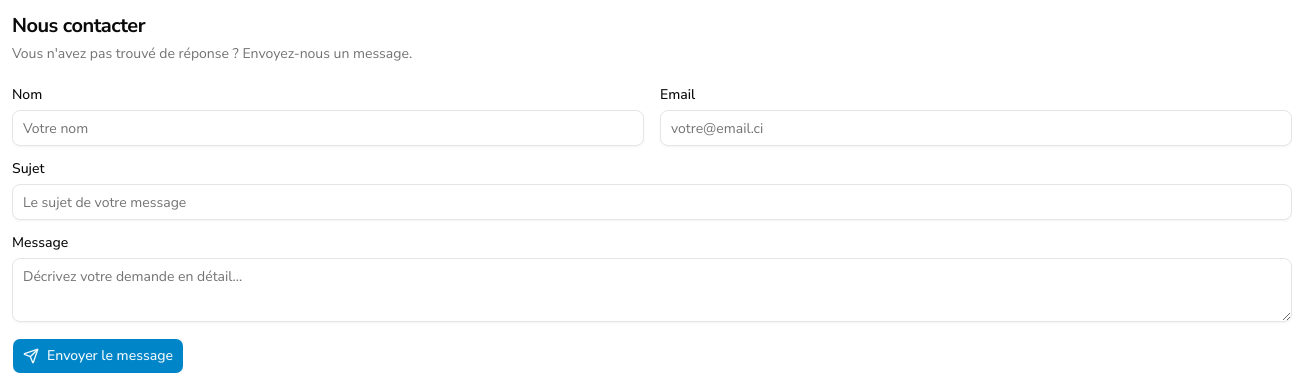
Scenario: ContactForm › disables the submit button while submitting
Step 1. Type "Kouamé" into the field labelled "Nom" → (328, 128), box 12,110 -> 644,146
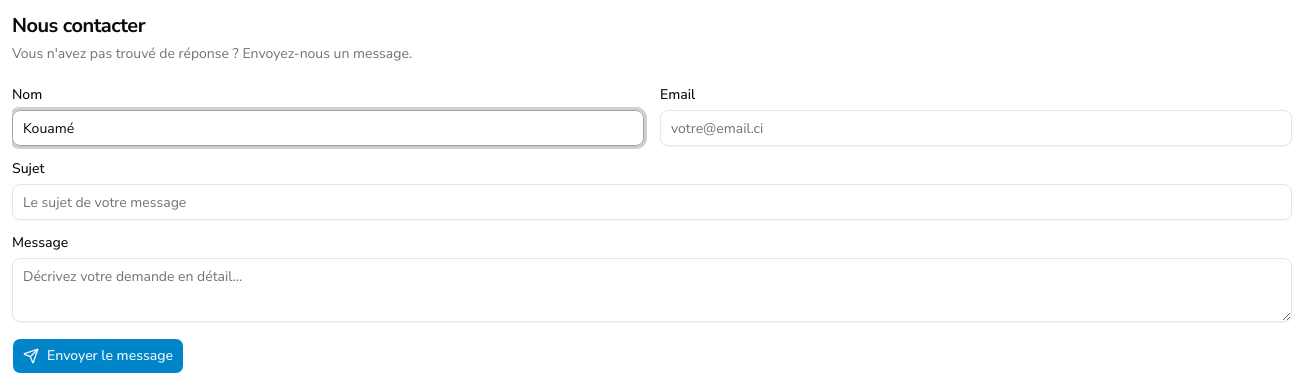
Step 2. Type "k@t.ci" into the field labelled "Email" → (976, 128), box 660,110 -> 1292,146
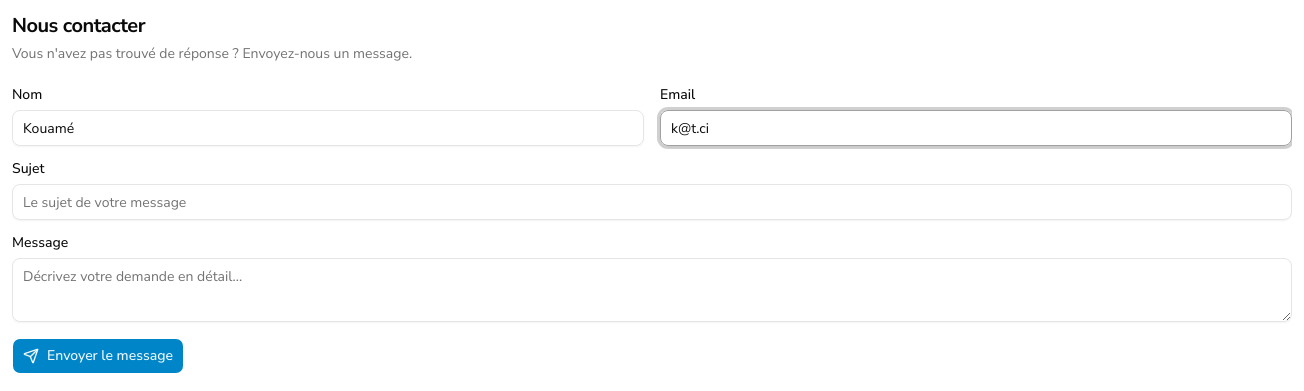
Step 3. Type "Question test" into the field labelled "Sujet" → (652, 202), box 12,184 -> 1292,220
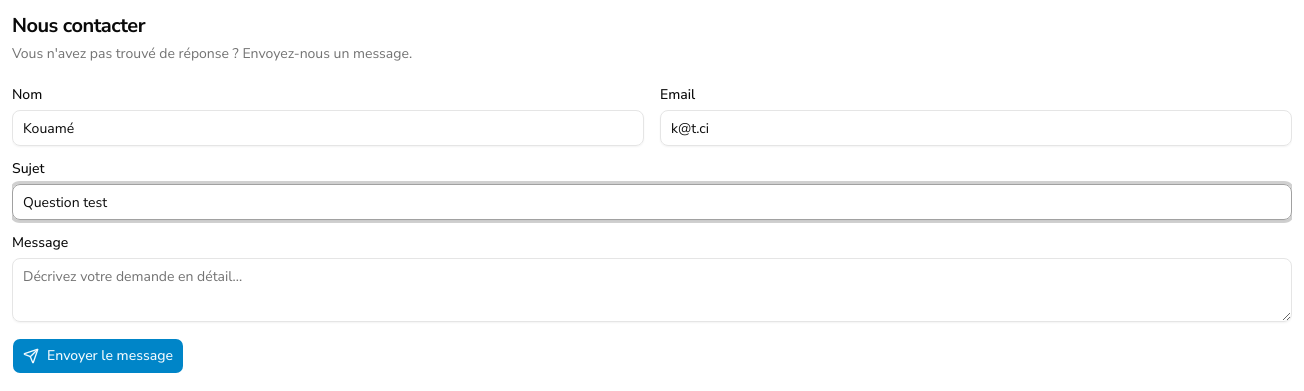
Step 4. Type "Un message de test assez long" into the text box labelled "Message" → (652, 290), box 12,258 -> 1292,322
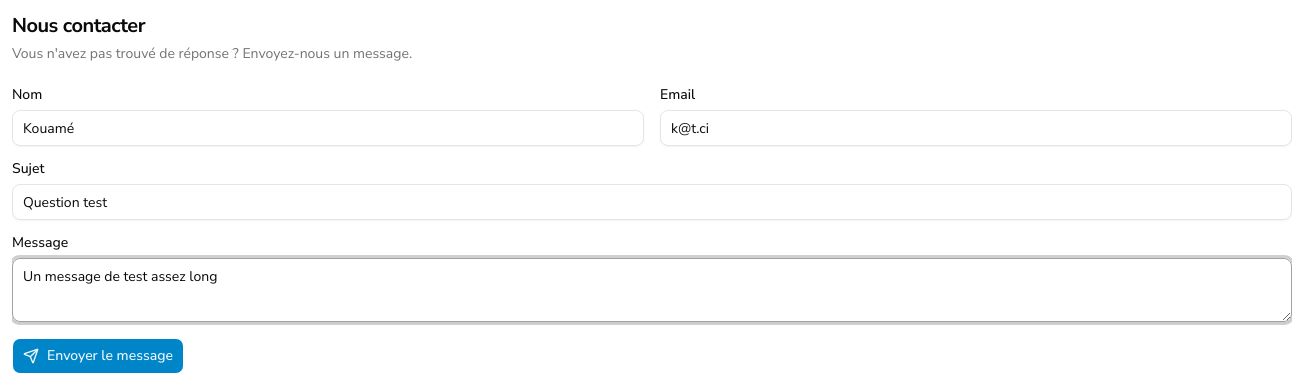
Step 5. Click the button "Envoyer le message" → (98, 356), box 12,338 -> 184,374
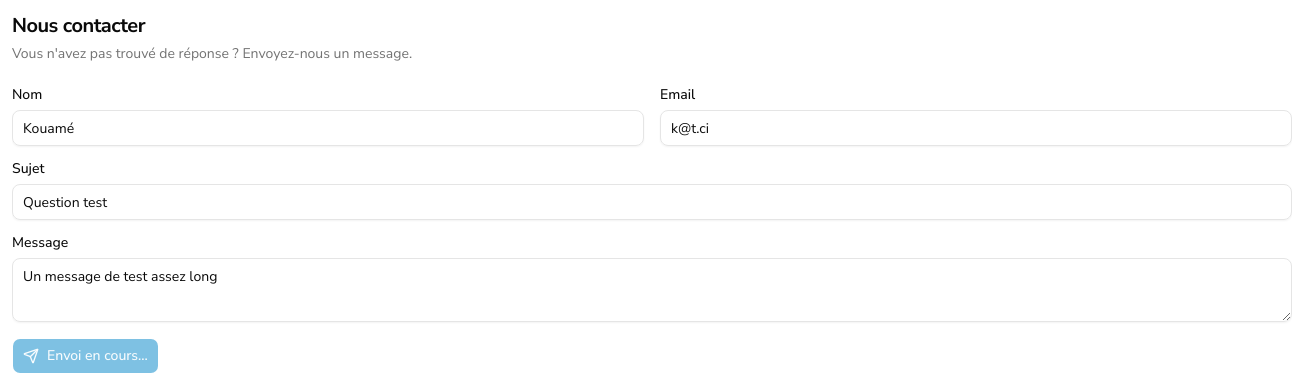
Result: the button "Envoi en cours..." is disabled at 12,338 -> 159,374
